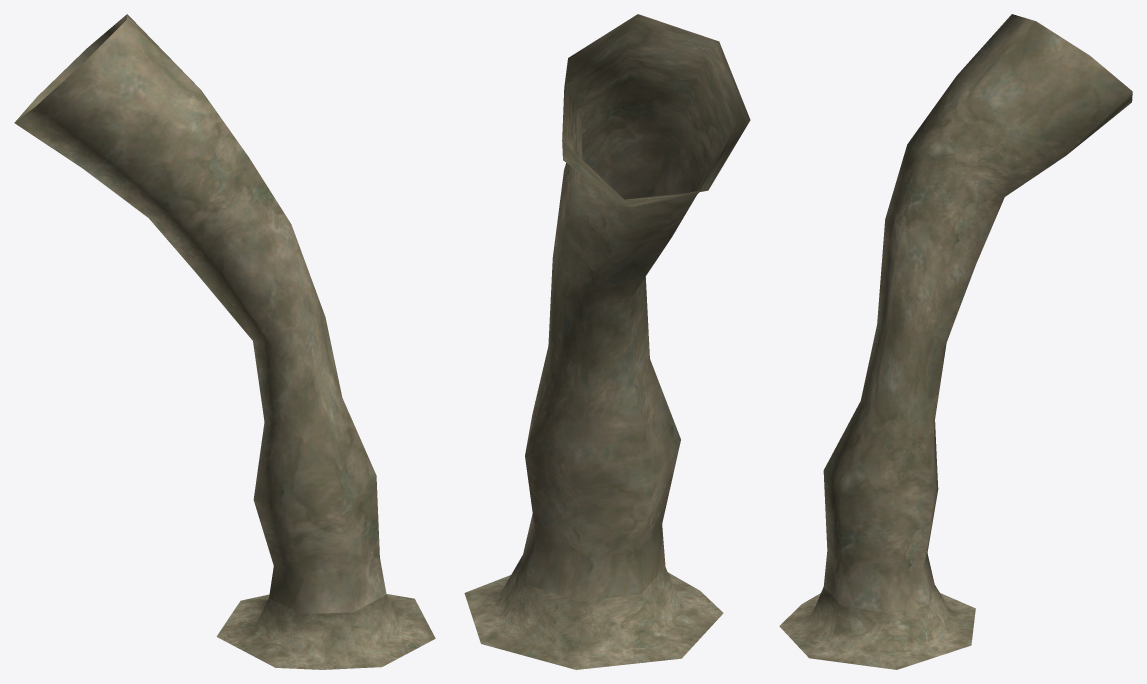
The model's file is EKH_GROTTO_PS_GR_ROCKFORM49383__GX.fbx.
3 views of the same model, side by side, from view 1: azimuth 30°, elevation 25°; view 2: azimuth 150°, elevation 25°; view 3: azimuth 270°, elevation 25° (orthographic). The views are drawn at different scales.
Visible parts, largest first — view 1: EKH_GROTTO_PS_GR_ROCKFORM49383__GX; view 2: EKH_GROTTO_PS_GR_ROCKFORM49383__GX; view 3: EKH_GROTTO_PS_GR_ROCKFORM49383__GX.
Boxes of the visible parts, left/top/right/bottom form: EKH_GROTTO_PS_GR_ROCKFORM49383__GX: left=14, top=14, right=435, bottom=669; EKH_GROTTO_PS_GR_ROCKFORM49383__GX: left=464, top=14, right=750, bottom=669; EKH_GROTTO_PS_GR_ROCKFORM49383__GX: left=779, top=14, right=1132, bottom=669.
Size of the model in its own units: 59161 by 106736 by 62264.
Materials: 1 (1 with a texture image).
